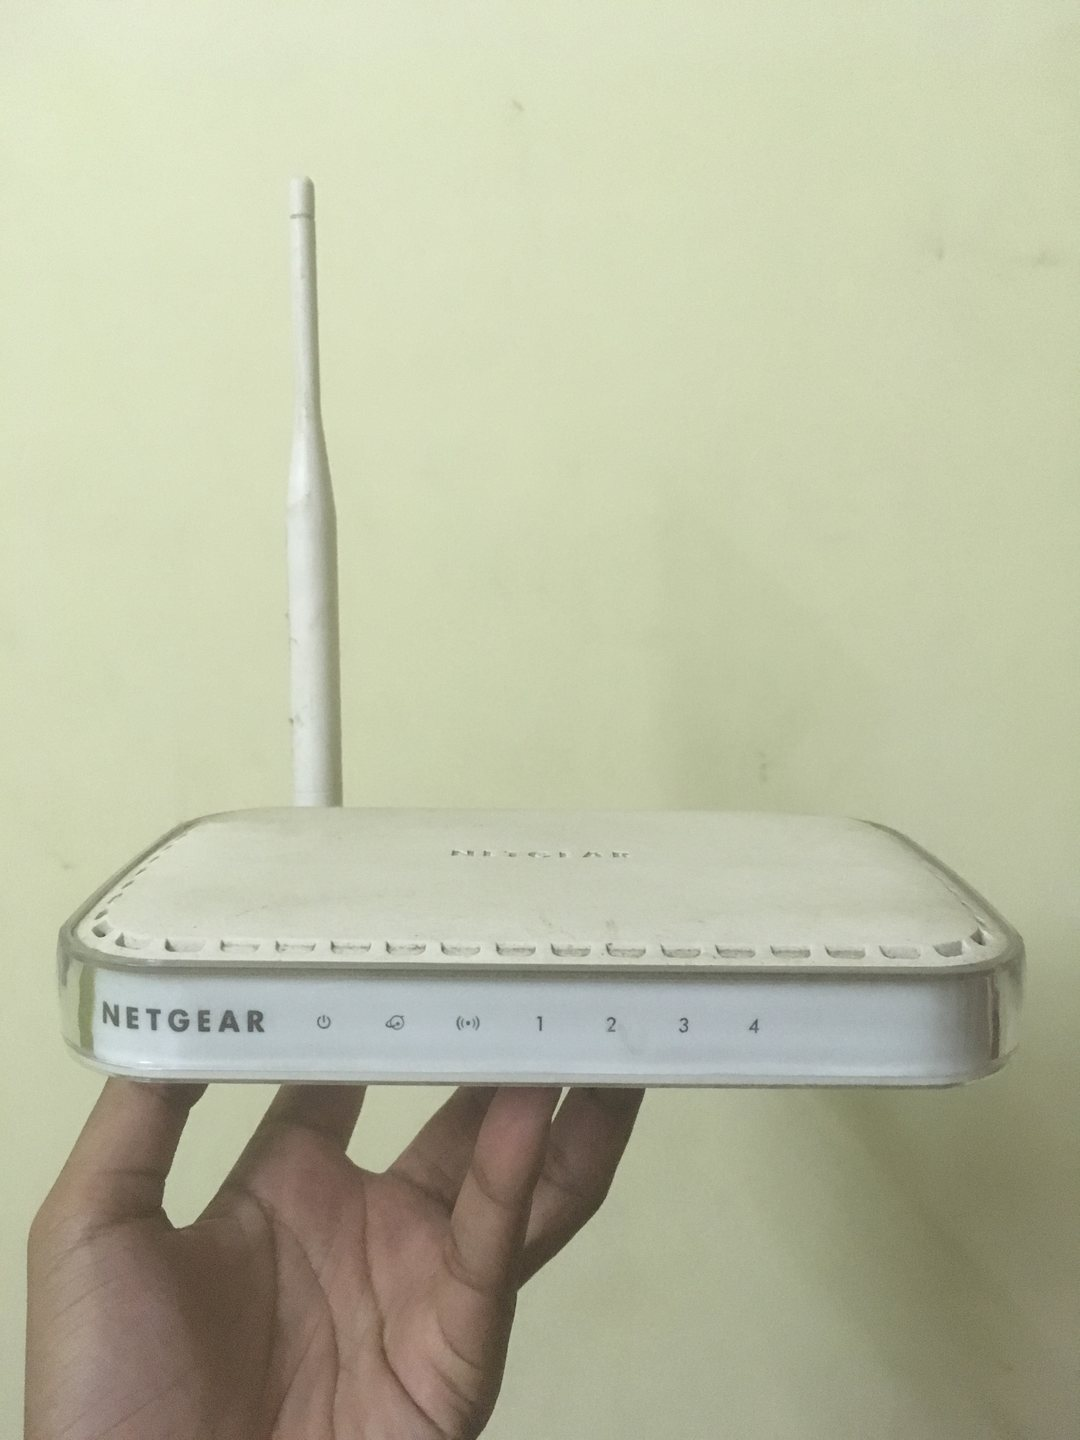NETGEAR: (95, 991, 273, 1043)
modem: (45, 927, 1033, 1086)
